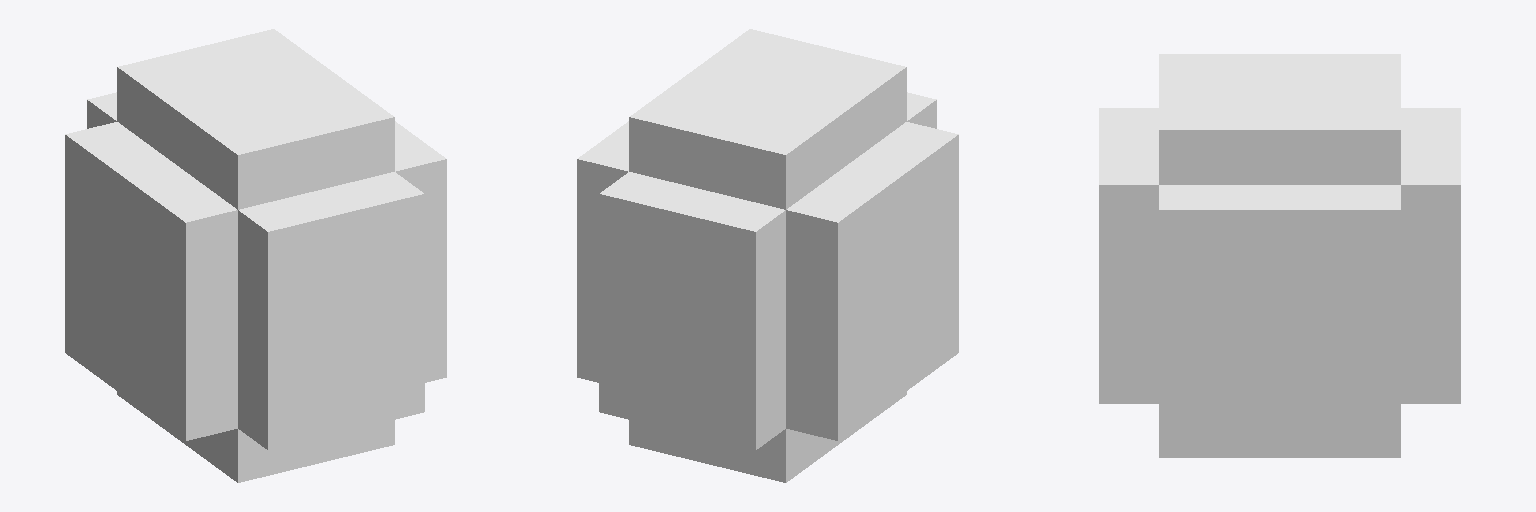
The model's file is bombeman-11-hat.obj.
3 renders of one model, left to right at view 1: azimuth 30°, elevation 25°; view 2: azimuth 150°, elevation 25°; view 3: azimuth 270°, elevation 25°, orthographic.
Parts seen in each view (by area): view 1: hat; view 2: hat; view 3: hat.
Part boxes in pixels (left/top/right/bottom): hat: left=65, top=29, right=446, bottom=482; hat: left=577, top=29, right=958, bottom=482; hat: left=1099, top=54, right=1460, bottom=457.
Size of the model in its own units: 0.5 by 0.6 by 0.6.